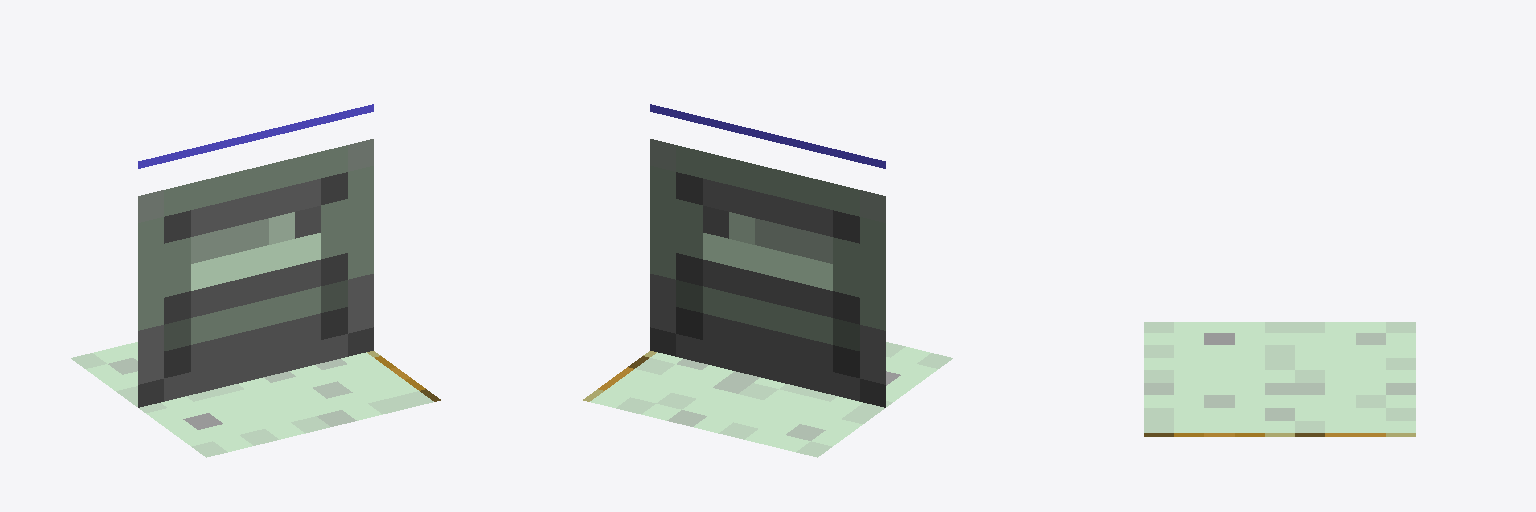
3 views of the same model, side by side, from view 1: azimuth 30°, elevation 25°; view 2: azimuth 150°, elevation 25°; view 3: azimuth 270°, elevation 25° (orthographic).
Visible parts, largest first — view 1: Default; view 2: Default; view 3: Default.
Boxes of the visible parts, x1,y1,x2,y2 form: Default: [71, 104, 440, 457]; Default: [583, 104, 952, 457]; Default: [1144, 322, 1415, 436].
Bounding box in the file's own units: 1 × 1 × 1.
Materials: 1 (1 with a texture image).